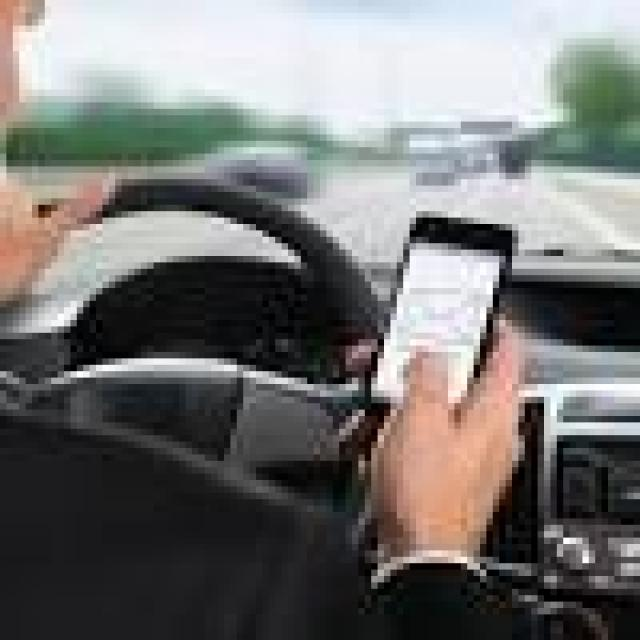Cellphone_texting: (346, 198, 538, 570)
